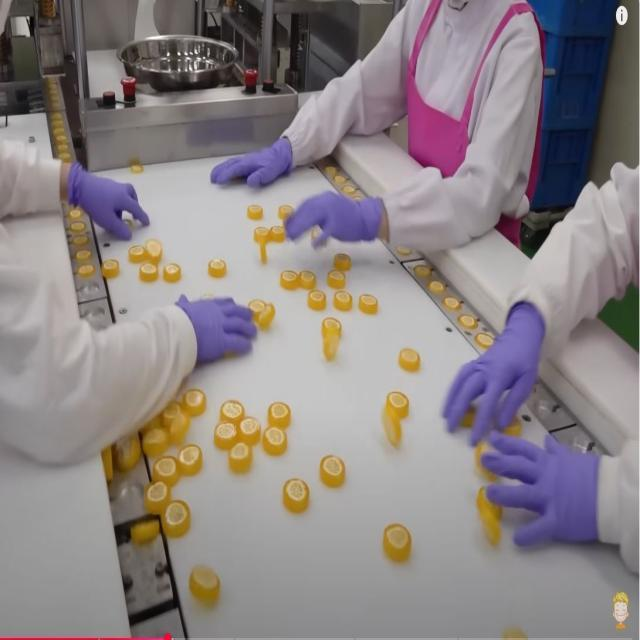gloved_hand: (438, 294, 548, 447), (479, 429, 611, 552), (178, 270, 262, 377), (62, 155, 152, 246), (286, 188, 386, 263), (206, 132, 297, 192)
